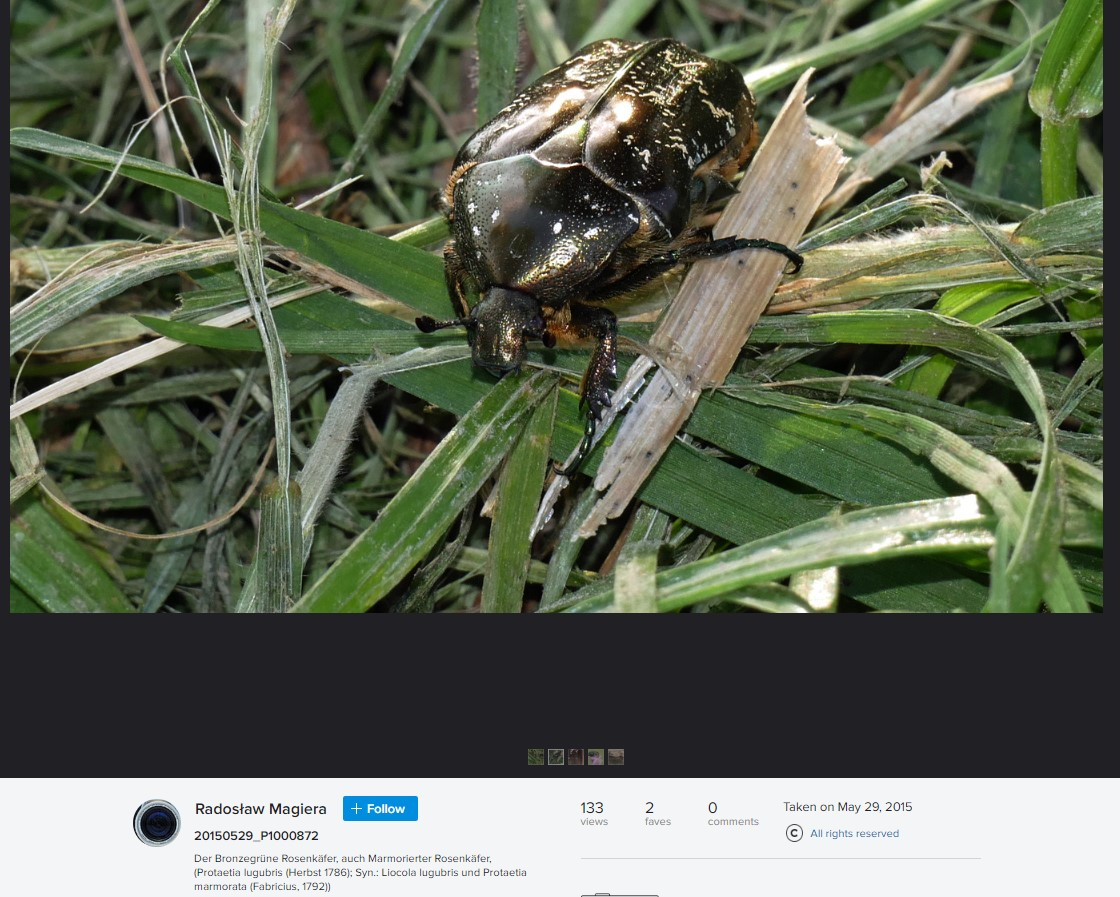Protaetia_lugubris: (413, 24, 802, 494)
